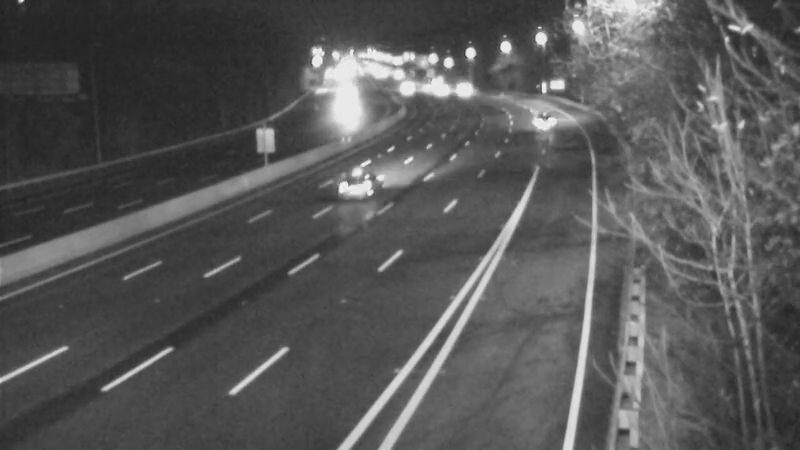vehicle: (314, 140, 394, 220), (447, 62, 497, 112), (381, 66, 431, 116), (410, 63, 460, 113), (521, 94, 571, 144)
